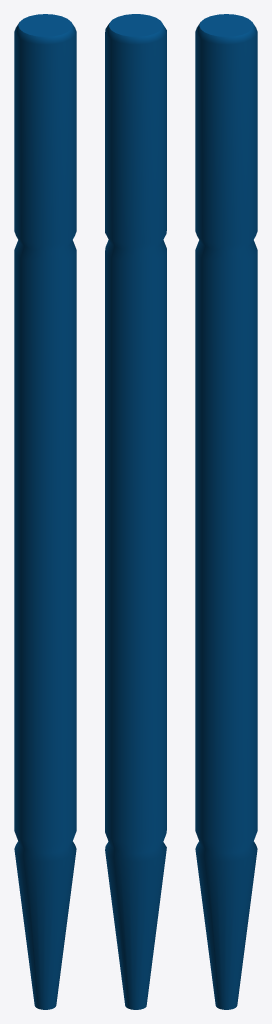
File: Croquet_Stake.fbx
3 views of the same model, side by side, from view 1: azimuth 90°, elevation 25°; view 2: azimuth 150°, elevation 25°; view 3: azimuth 270°, elevation 25° (orthographic).
Parts seen in each view (by area): view 1: Croquet_Stake; view 2: Croquet_Stake; view 3: Croquet_Stake.
Boxes of the visible parts, x1,y1,x2,y2 form: Croquet_Stake: (14,14,76,1009); Croquet_Stake: (105,14,166,1009); Croquet_Stake: (195,14,257,1009).
Size of the model in its own units: 16.82 by 292 by 16.82.
